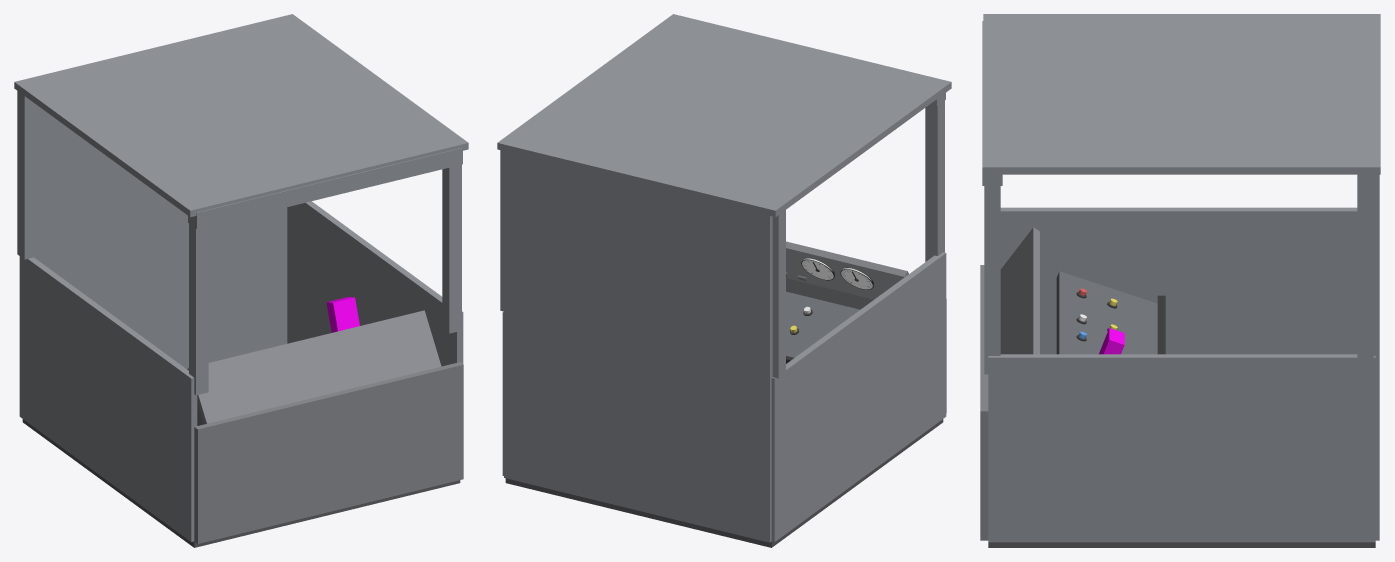
File: desk.glb
The picture shows the model from 3 angles, left to right: view 1: azimuth 30°, elevation 25°; view 2: azimuth 150°, elevation 25°; view 3: azimuth 270°, elevation 25°; orthographic projection. The views are drawn at different scales.
Parts seen in each view (by area): view 1: Shell, Console, MasterLever_Hit; view 2: Shell, Console, Desk; view 3: Shell, Desk, Console, DeskFront, MasterLever_Hit.
Boxes of the visible parts, x1,y1,x2,y2 form: Shell: [14, 14, 468, 547]; Console: [187, 310, 441, 424]; MasterLever_Hit: [326, 297, 359, 332]; Shell: [497, 14, 951, 547]; Console: [786, 241, 908, 299]; Desk: [786, 291, 859, 357]; Shell: [980, 14, 1380, 547]; Desk: [1056, 271, 1157, 354]; Console: [1000, 227, 1039, 354]; DeskFront: [1157, 295, 1165, 354]; MasterLever_Hit: [1099, 328, 1124, 354].
Bounding box in the file's own units: 1.78 × 2.08 × 1.96.
Materials: 19 (3 with a texture image).
